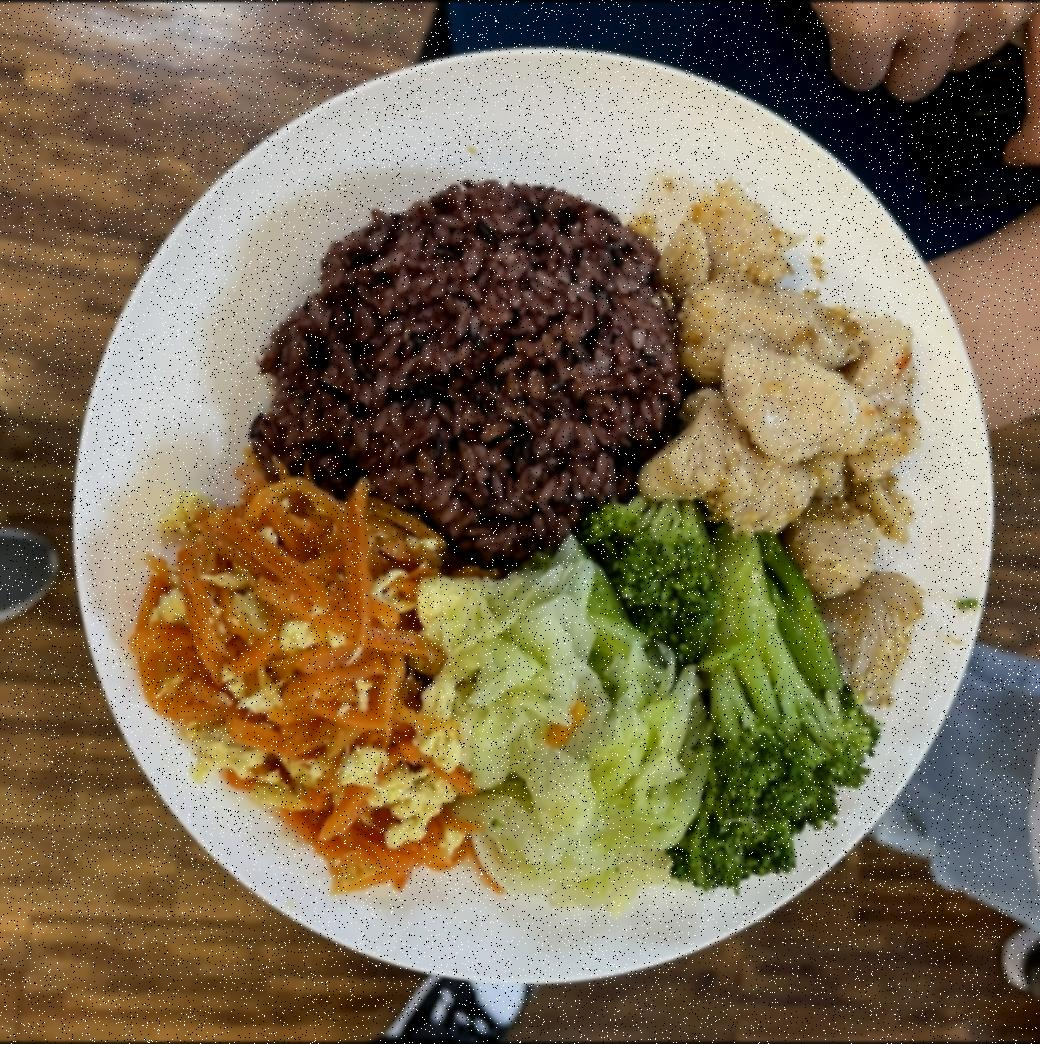plate: (53, 42, 1006, 982)
purple rice: (231, 174, 704, 582)
scallion chicken: (651, 188, 934, 686)
side dish: (138, 467, 472, 896), (601, 473, 869, 874), (448, 544, 697, 906)
